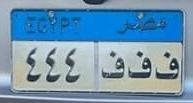4: (63, 45, 82, 86), (23, 46, 42, 86), (44, 45, 62, 85)
faa: (100, 47, 126, 83), (153, 50, 181, 83), (127, 49, 152, 83)
